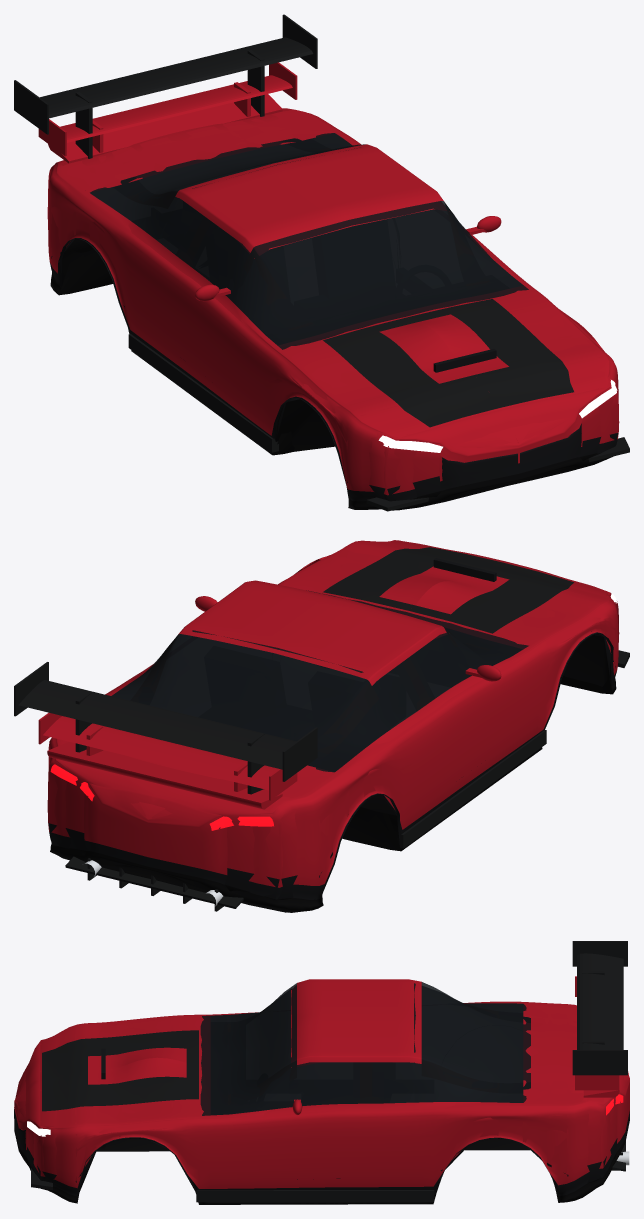
Rendered from kestrel.glb.
The picture shows the model from 3 angles, top to bottom: view 1: azimuth 30°, elevation 25°; view 2: azimuth 150°, elevation 25°; view 3: azimuth 270°, elevation 25°; orthographic projection. The views are drawn at different scales.
Visible parts, largest first — view 1: body (×2), hood_3, spoiler_3, spoiler_2, hood_1, spoiler_1, bumper_1, grille, mirrors, headlights; view 2: body (×2), spoiler_3, hood_3, spoiler_2, bumper_1, spoiler_1, hood_1, taillights, hood_1_intake, mirrors; view 3: body (×2), hood_3, spoiler_3, bumper_1, hood_1, spoiler_2.
Boxes of the visible parts, left/top/right/bottom form: body (×2): left=47, top=108, right=619, bottom=510; hood_3: left=323, top=299, right=573, bottom=427; spoiler_3: left=14, top=14, right=317, bottom=158; spoiler_2: left=38, top=62, right=297, bottom=156; hood_1: left=379, top=314, right=508, bottom=383; spoiler_1: left=48, top=94, right=282, bottom=163; bumper_1: left=128, top=334, right=629, bottom=511; grille: left=442, top=423, right=581, bottom=481; mirrors: left=195, top=216, right=501, bottom=301; headlights: left=378, top=380, right=617, bottom=452; body (×2): left=47, top=540, right=619, bottom=912; spoiler_3: left=14, top=662, right=317, bottom=794; hood_3: left=323, top=547, right=573, bottom=633; spoiler_2: left=38, top=713, right=297, bottom=800; bumper_1: left=65, top=650, right=629, bottom=911; spoiler_1: left=47, top=742, right=282, bottom=809; hood_1: left=379, top=566, right=509, bottom=614; taillights: left=50, top=764, right=273, bottom=830; hood_1_intake: left=433, top=558, right=496, bottom=581; mirrors: left=195, top=596, right=501, bottom=681; body (×2): left=14, top=979, right=629, bottom=1204; hood_3: left=42, top=1030, right=198, bottom=1111; spoiler_3: left=572, top=941, right=627, bottom=1075; bumper_1: left=31, top=1141, right=625, bottom=1202; hood_1: left=88, top=1047, right=186, bottom=1084; spoiler_2: left=575, top=976, right=619, bottom=1090.
Bounding box in the file's own units: 2.12 × 1.25 × 4.45.
